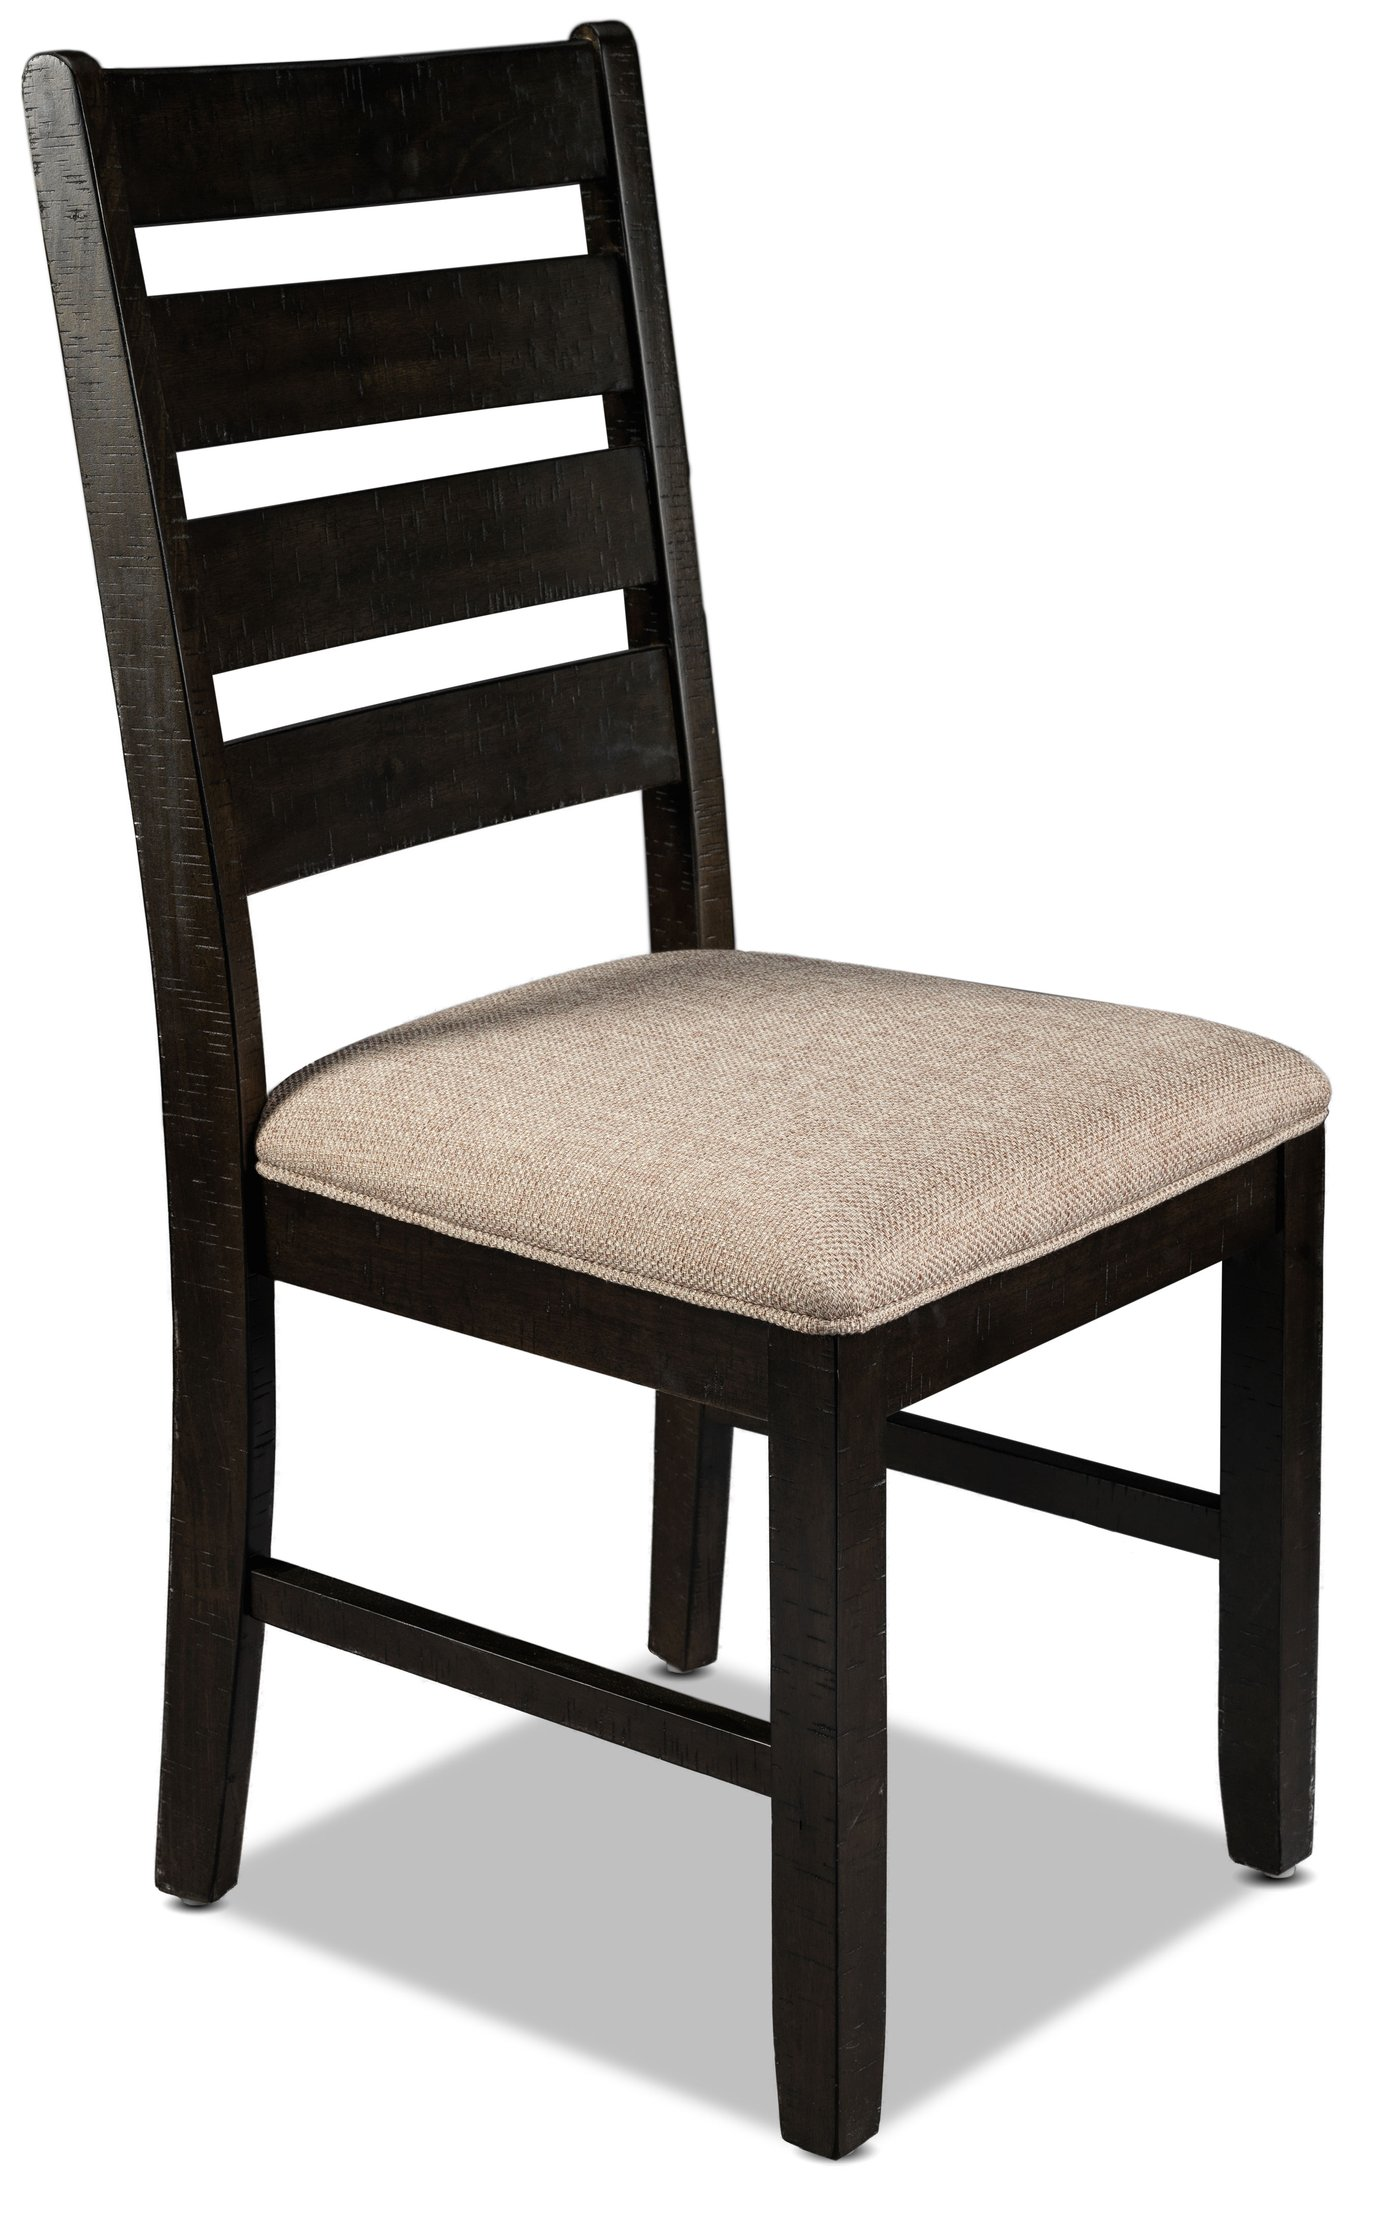kursi: (23, 18, 1360, 2152)
